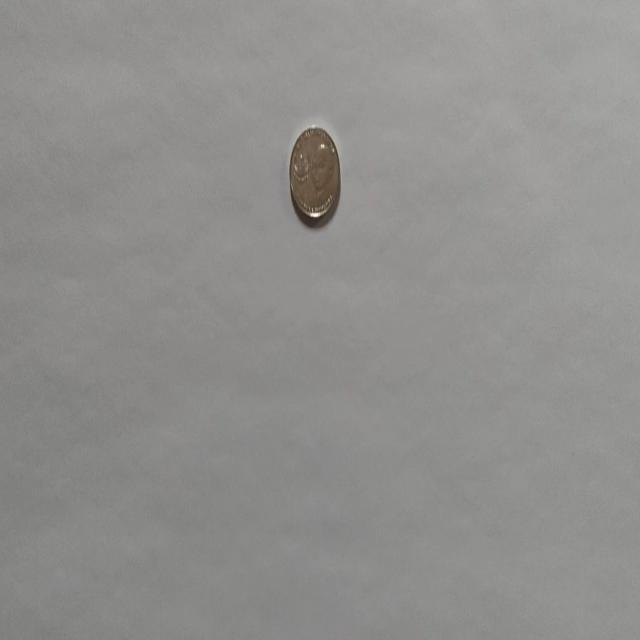lima ratus rupiah: (288, 124, 340, 222)
